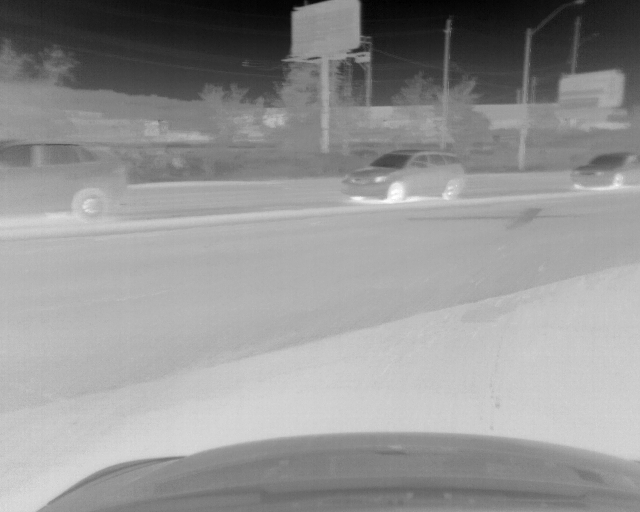car: (1, 140, 125, 220), (338, 149, 466, 203), (568, 151, 640, 190)
